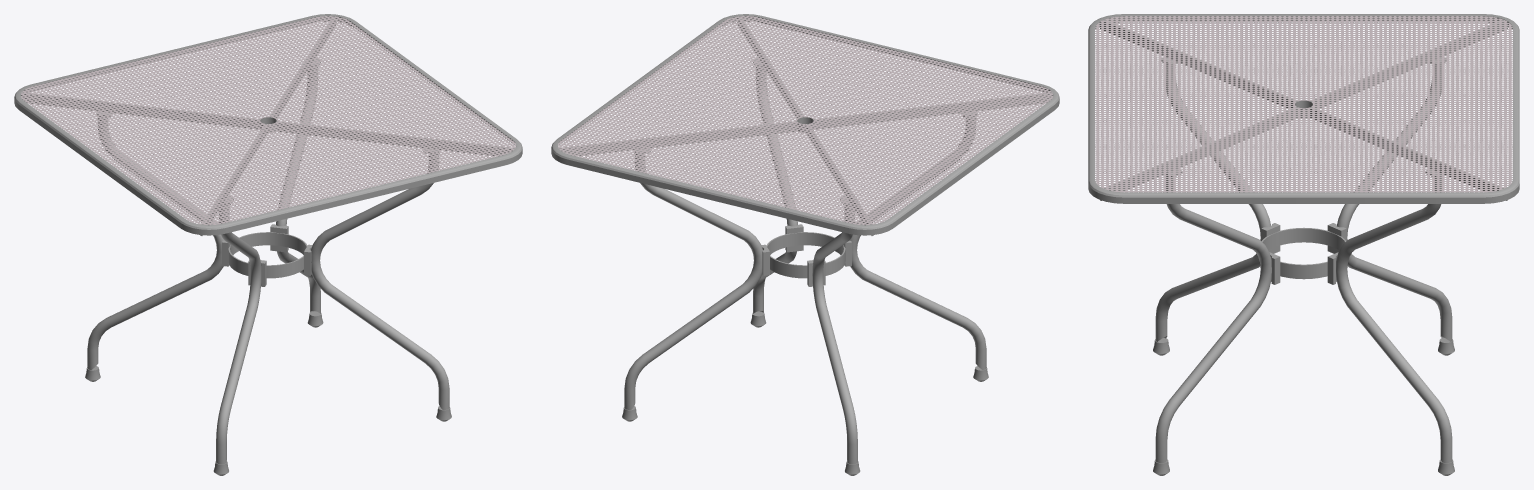
File: metalsquaretable_w900_steal.fbx
The picture shows the model from 3 angles, left to right: view 1: azimuth 30°, elevation 25°; view 2: azimuth 150°, elevation 25°; view 3: azimuth 270°, elevation 25°; orthographic projection. The views are drawn at different scales.
Visible parts, largest first — view 1: メタル_スクエアテーブル.001; view 2: メタル_スクエアテーブル.001; view 3: メタル_スクエアテーブル.001.
Boxes of the visible parts, bbox=[...] form: メタル_スクエアテーブル.001: bbox=[14, 14, 522, 475]; メタル_スクエアテーブル.001: bbox=[551, 14, 1059, 475]; メタル_スクエアテーブル.001: bbox=[1088, 14, 1519, 475].
Bounding box in the file's own units: 90 × 71.46 × 90.
3 materials, 1 textured.
